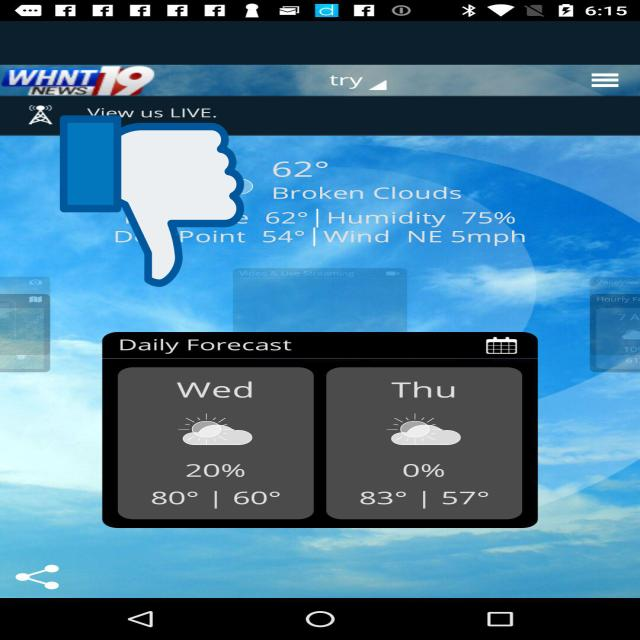obstruction: (60, 112, 244, 290)
